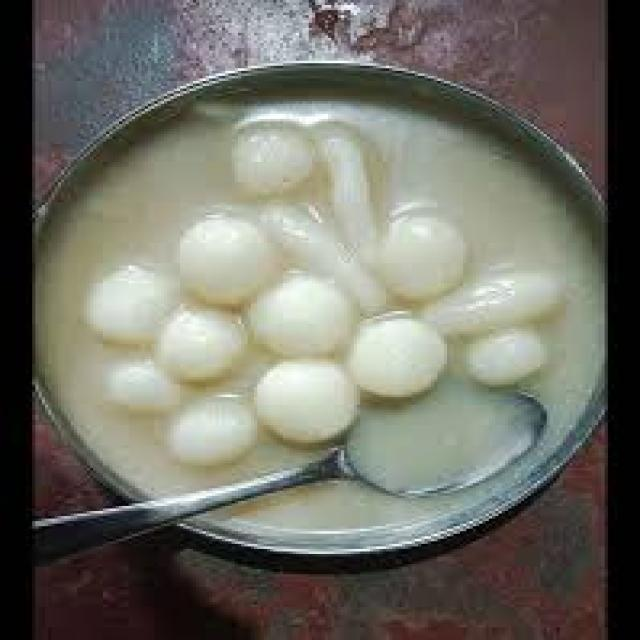paal kolukattai: (61, 124, 573, 536)
